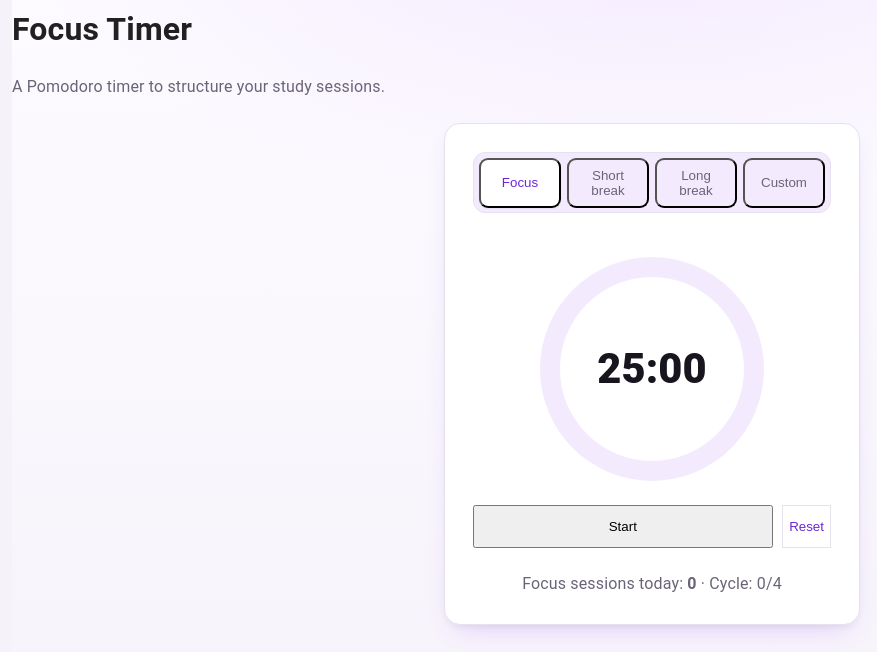
Scenario: FocusTimerPage › switching to Short break shows its own duration
Click the tab "Short break". click: (608, 183)
box: [567, 158, 649, 208]
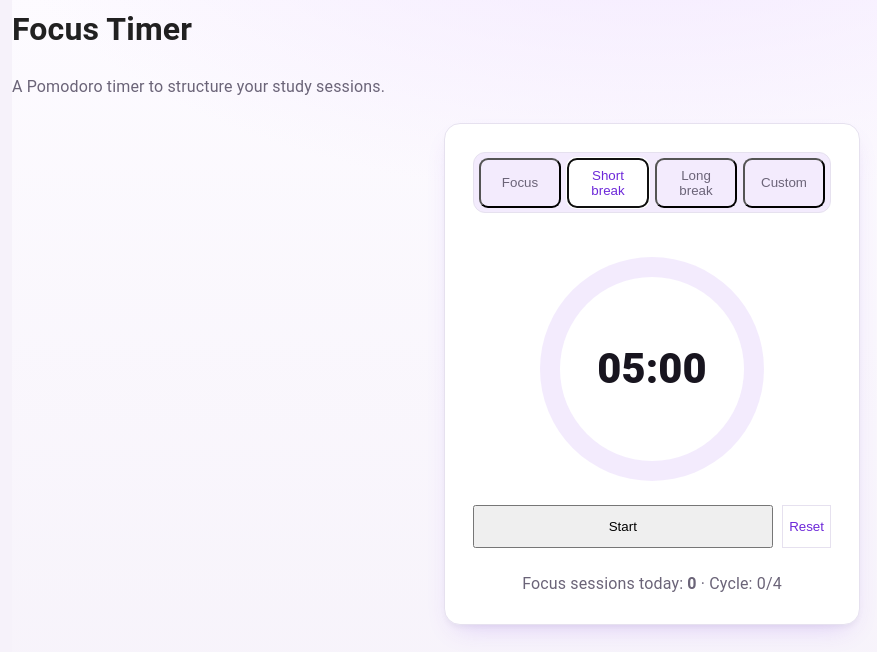
Expected: the text "05:00" is shown, [560, 278, 744, 462]
